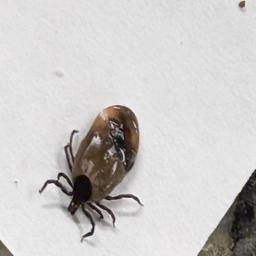Ixodes scapularis: (36, 106, 143, 243)
